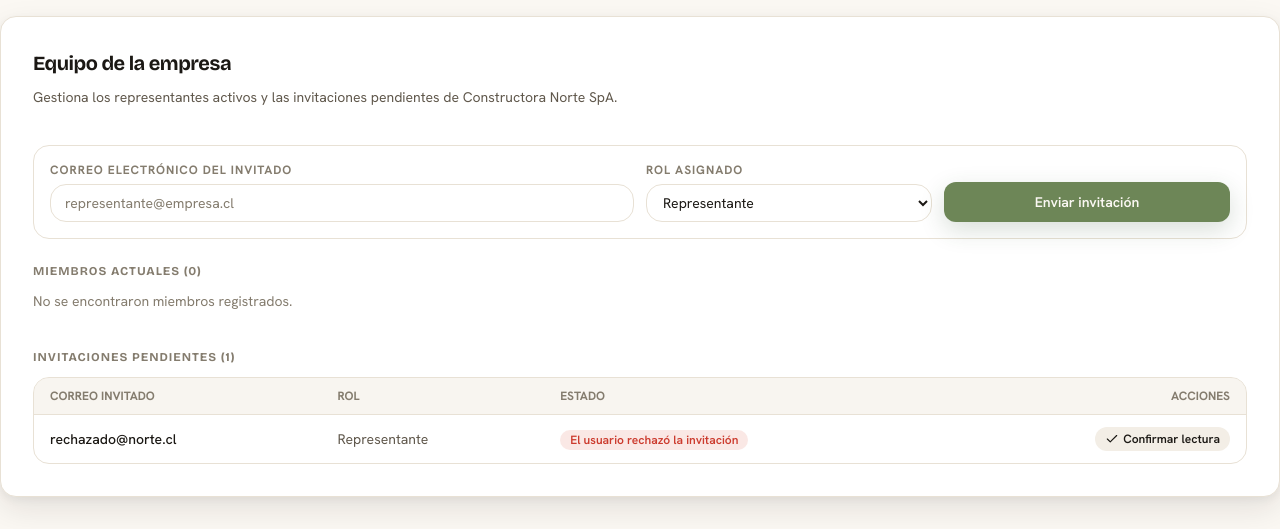
Scenario: CompanyTeamSection › muestra invitaciones rechazadas indicando que el usuario rechazó la invitación y permite confirmar lectura para quitarlas de la lista
Expected: the text "rechazado@norte.cl" is shown, [34,414,321,463]
Expected: the text "El usuario rechazó la invitación" is shown, [560,430,748,450]
Step 1. Click the button with aria-label "confirmar lectura de rechazado@norte.cl" → (1163, 439), box [1095,427,1230,451]
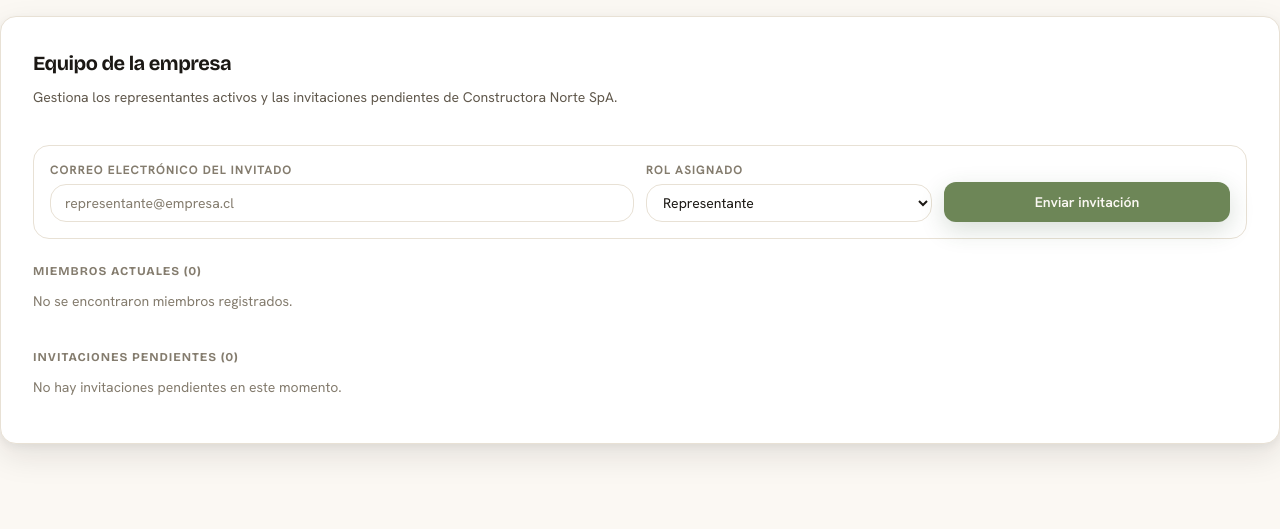
Result: the text "rechazado@norte.cl" is gone
